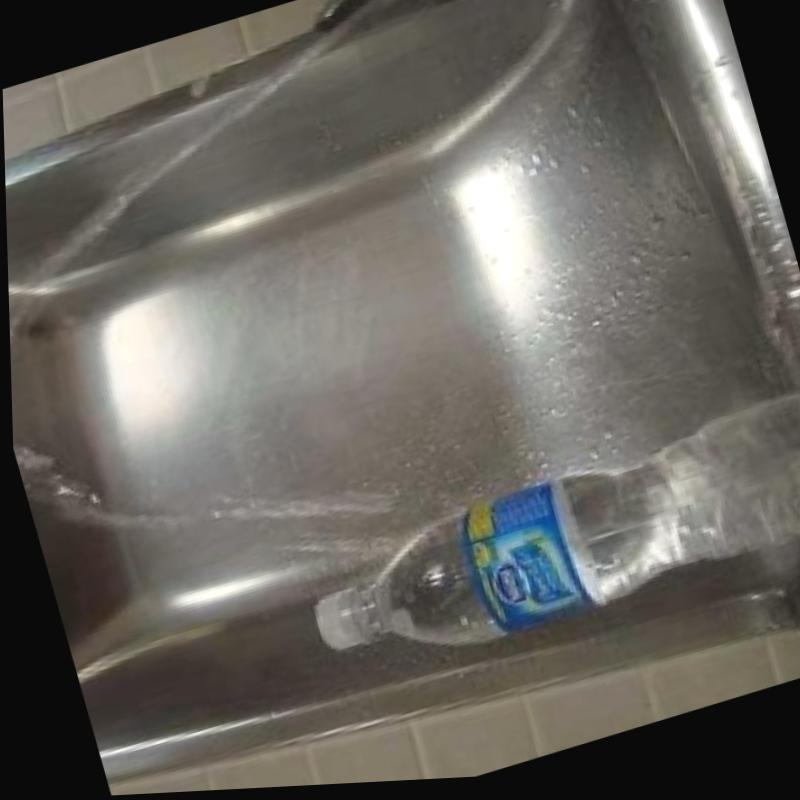botella: (284, 391, 800, 697)
